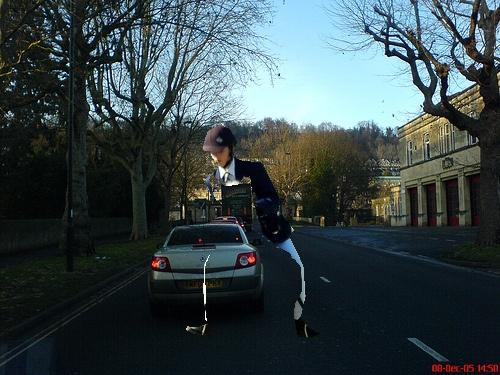tampered: (187, 126, 321, 337)
